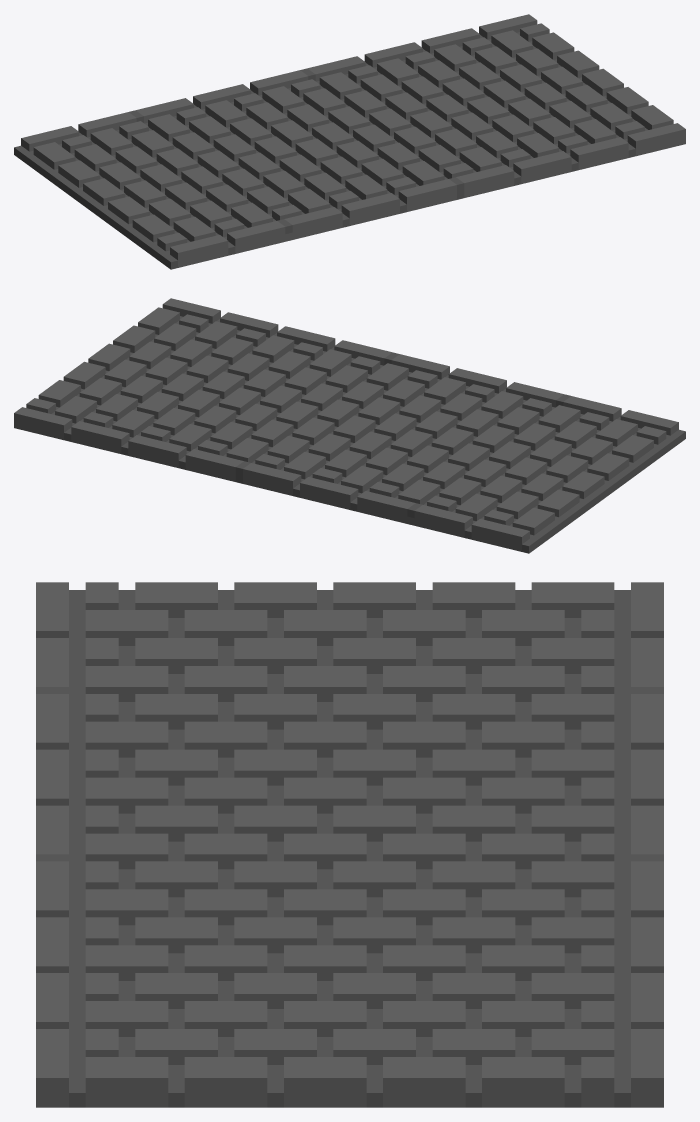
The model's file is Road Long.obj.
3 renders of one model, top to bottom at view 1: azimuth 30°, elevation 25°; view 2: azimuth 150°, elevation 25°; view 3: azimuth 270°, elevation 25°, orthographic. The views are drawn at different scales.
Size of the model in its own units: 7.2 by 0.2 by 3.8.
1 material, 1 textured.
